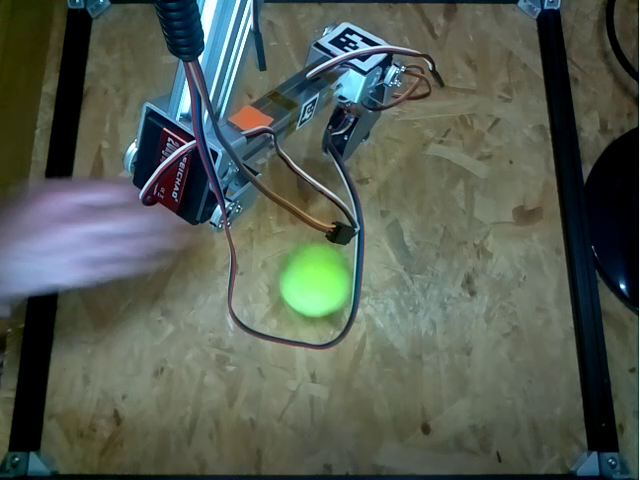tennis_ball: (281, 245, 351, 316)
